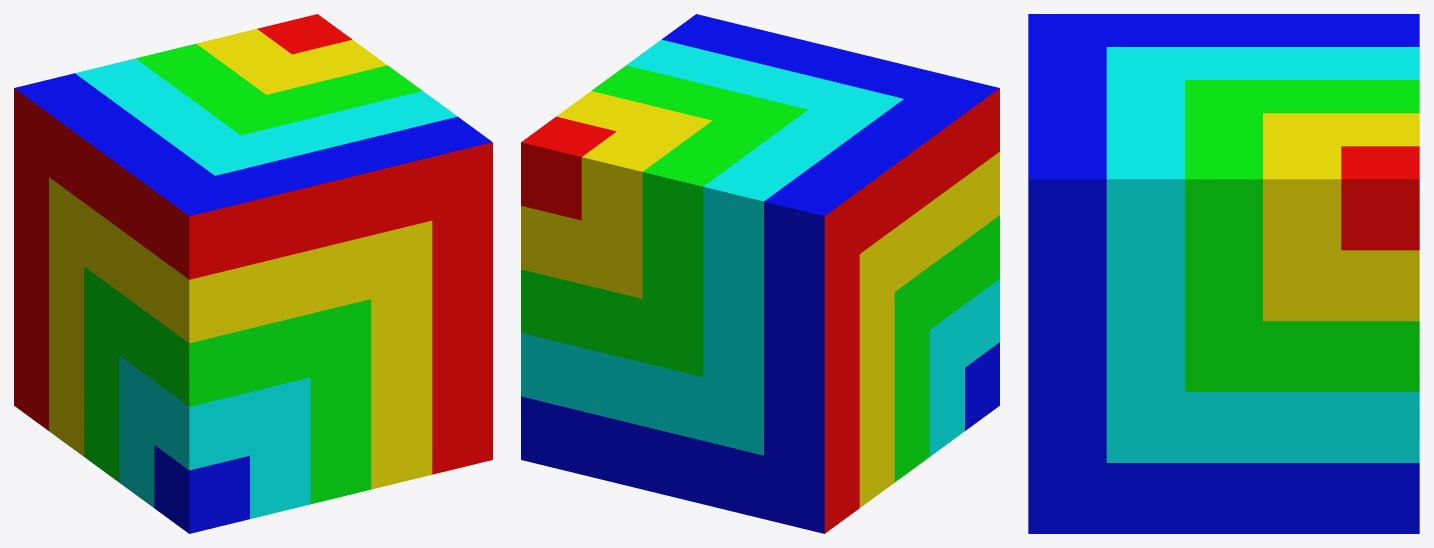
The picture shows the model from 3 angles, left to right: view 1: azimuth 30°, elevation 25°; view 2: azimuth 150°, elevation 25°; view 3: azimuth 270°, elevation 25°; orthographic projection. The views are drawn at different scales.
Visible parts, largest first — view 1: Объект_Куб_2; view 2: Объект_Куб_2; view 3: Объект_Куб_2.
Boxes of the visible parts, <box> form: Объект_Куб_2: <box>14,14,492,533</box>; Объект_Куб_2: <box>521,14,999,533</box>; Объект_Куб_2: <box>1028,14,1419,533</box>.
Size of the model in its own units: 1 by 1 by 1.
